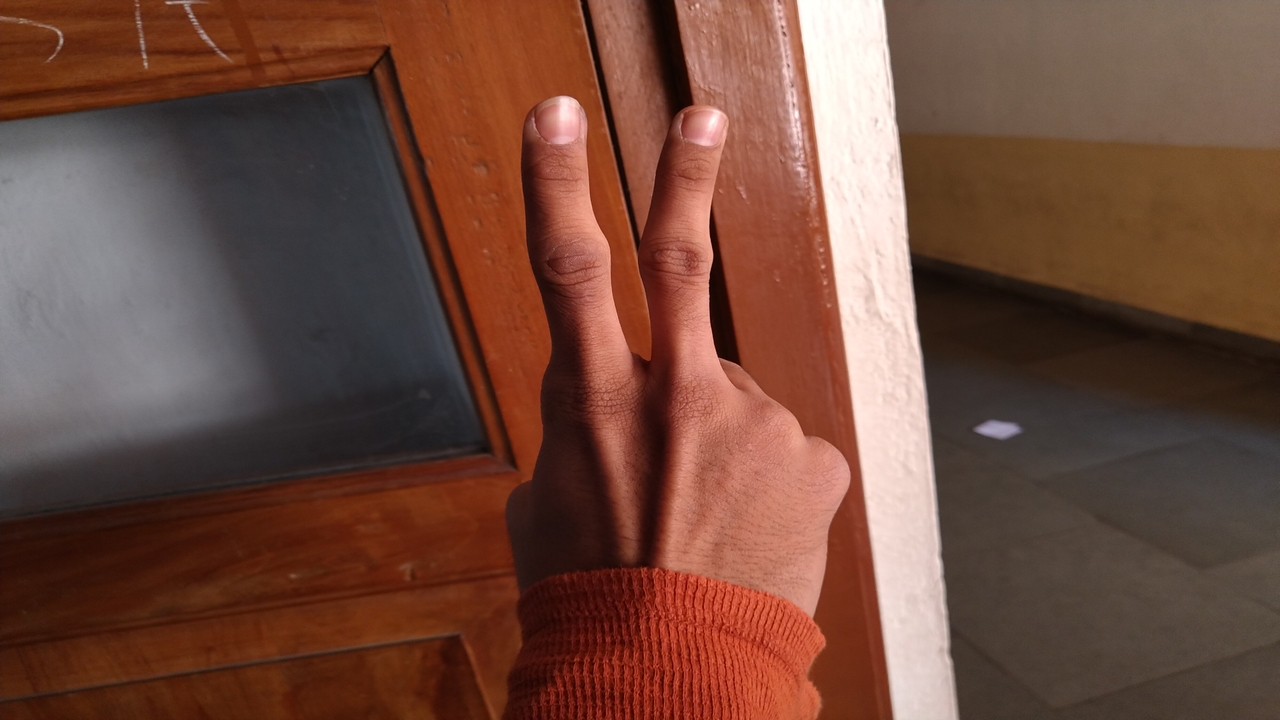fingertip: (518, 94, 592, 160), (672, 100, 734, 154)
